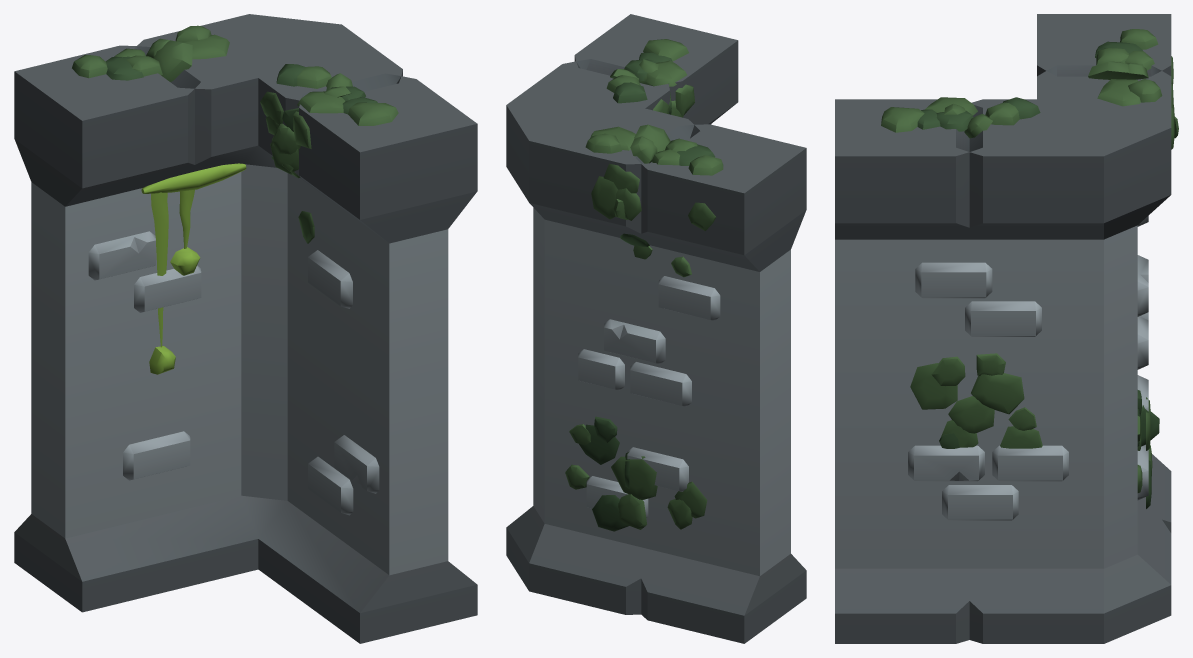
Rendered from wall_slimy_corner_A.glb.
3 renders of one model, left to right at view 1: azimuth 30°, elevation 25°; view 2: azimuth 150°, elevation 25°; view 3: azimuth 270°, elevation 25°, orthographic. The views are drawn at different scales.
Parts seen in each view (by area): view 1: Item; view 2: Item; view 3: Item.
Boxes of the visible parts, x1,y1,x2,y2 form: Item: [14, 14, 477, 643]; Item: [506, 14, 806, 643]; Item: [835, 14, 1178, 643].
Size of the model in its own units: 2.5 by 4.15 by 2.56.
3 materials, 3 textured.
